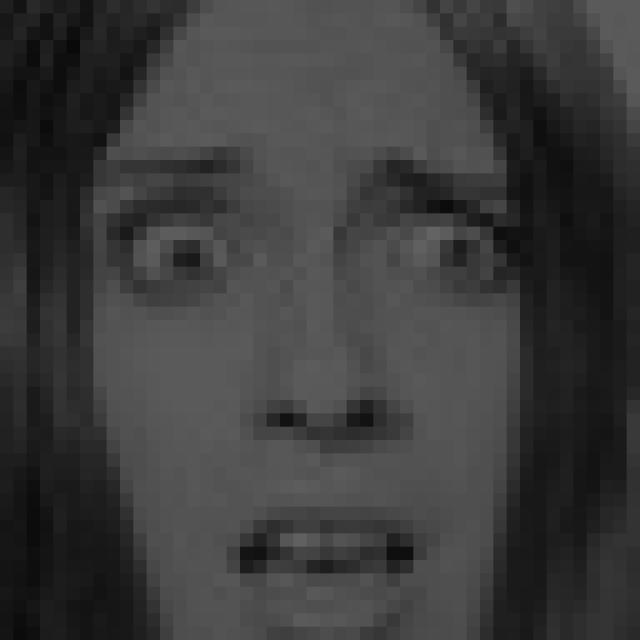fear: (96, 134, 521, 640)
